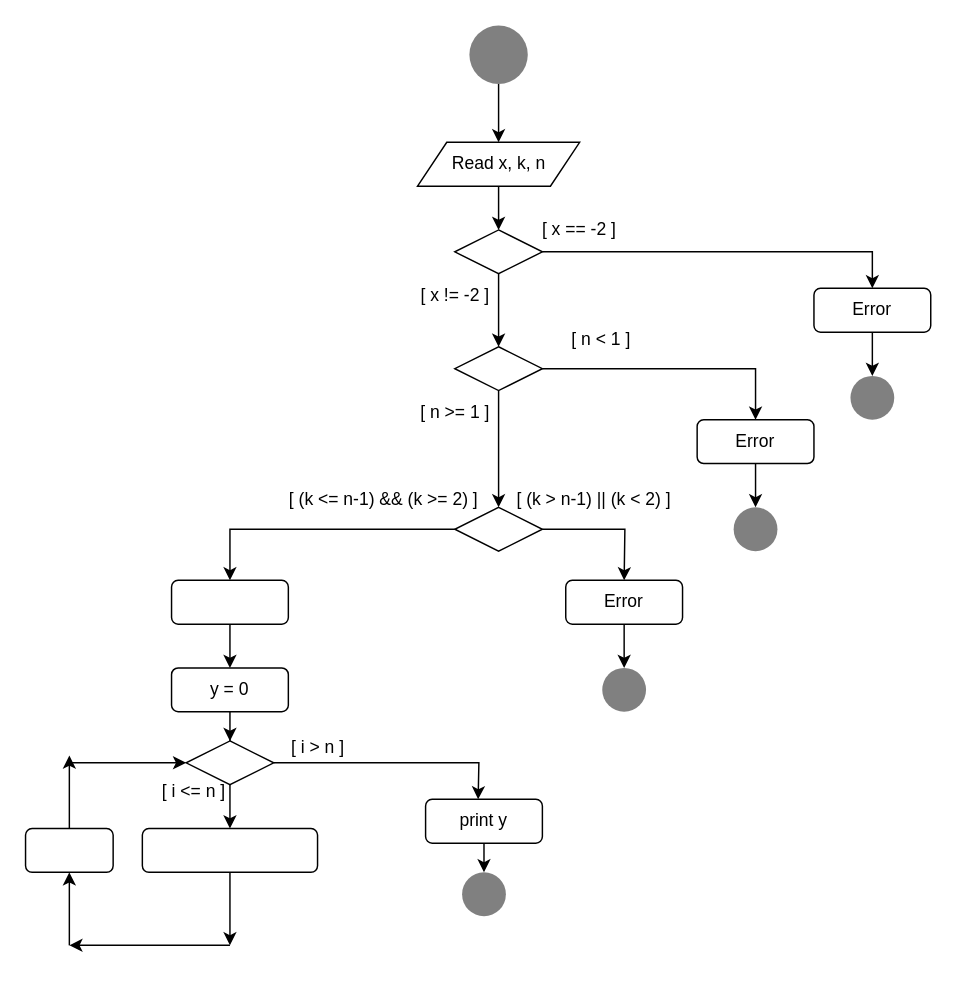
Some shapes in this 956 by 983 pixel diagram are drawn without their labels. Here are the shapes that lost their labels. From the top down, the box of each, then its label:
(170, 579, 288, 624): i = 1
(24, 827, 113, 872): i = i + 1
(141, 827, 318, 872): y = y + ( i / (x + 2i) )
